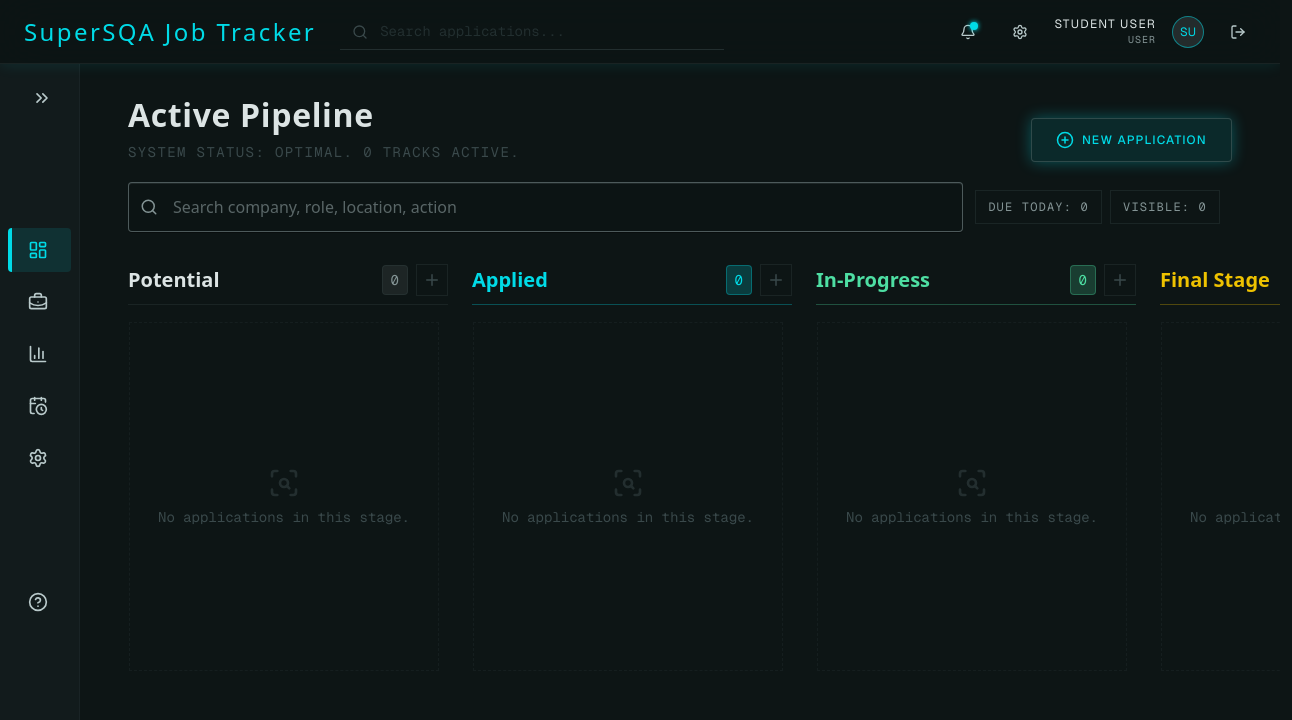
Test: AuthenticatedDashboard › logout clears the token and returns to login
Expected: the heading "Active Pipeline" is shown, [128,93,374,136]
What coordinates should you click on to do the following:
click the button named "Logout"
I would click on:
 (1238, 32)
Its box is [1220,14,1256,50].
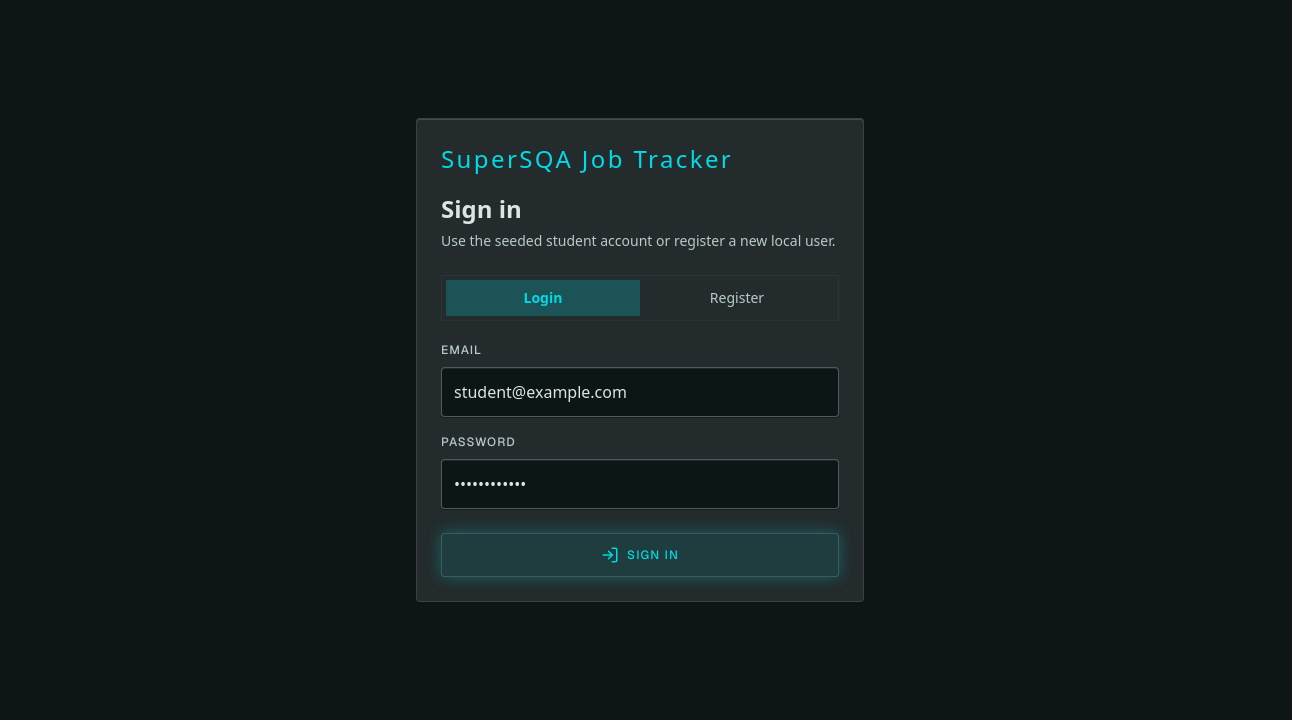
Now the heading "Sign in" is shown, box [441,192,522,225]
